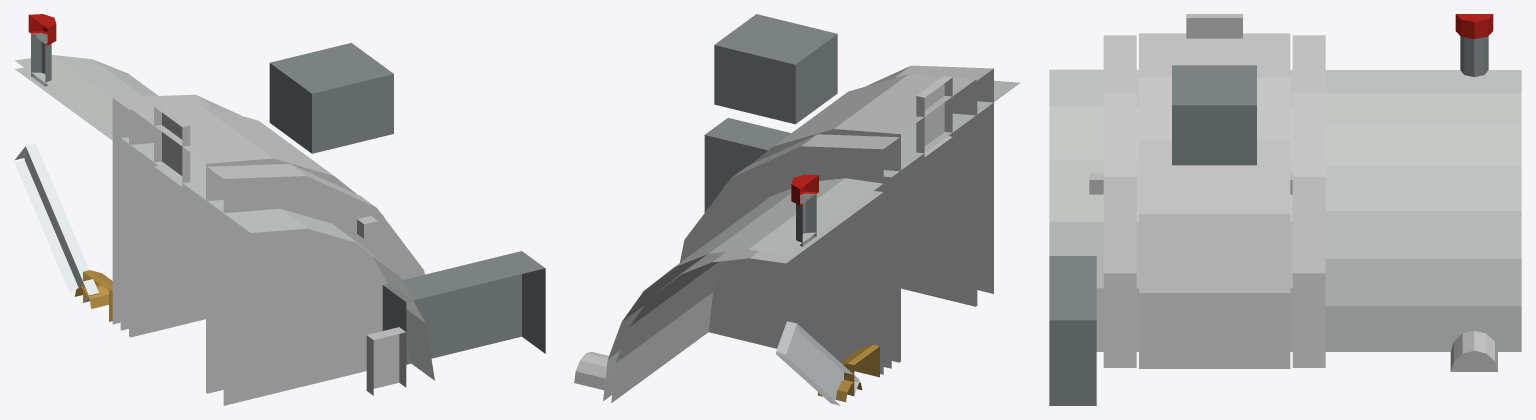
File: cell_94.obj
3 views of the same model, side by side, from view 1: azimuth 30°, elevation 25°; view 2: azimuth 150°, elevation 25°; view 3: azimuth 270°, elevation 25° (orthographic).
Bounding box in the file's own units: 0.72 × 0.6 × 1.
